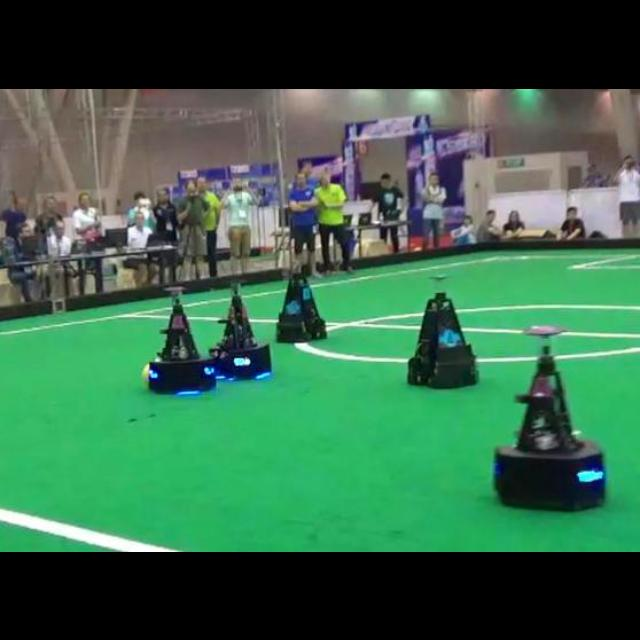robot: (494, 345, 604, 508), (407, 291, 476, 386), (146, 297, 214, 392), (210, 283, 271, 378), (276, 273, 326, 340)
